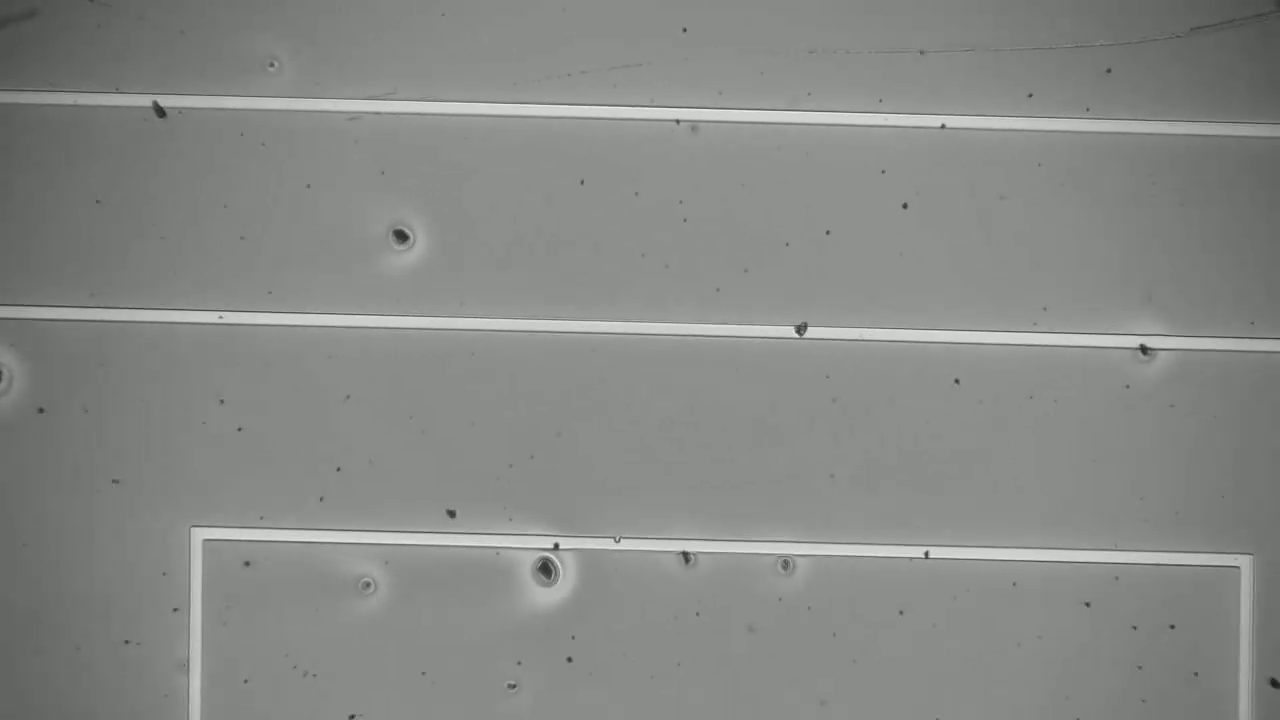edge_bite: (606, 531, 631, 560)
scratch: (1103, 1, 1280, 53)
stains_enbedded: (1130, 322, 1160, 364), (144, 86, 176, 125), (789, 316, 812, 343), (917, 541, 936, 564), (547, 527, 561, 553)
